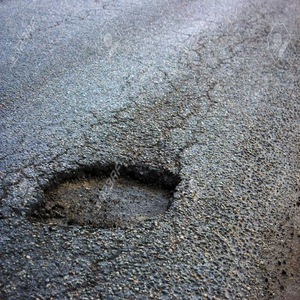pothole: (31, 162, 180, 233)
